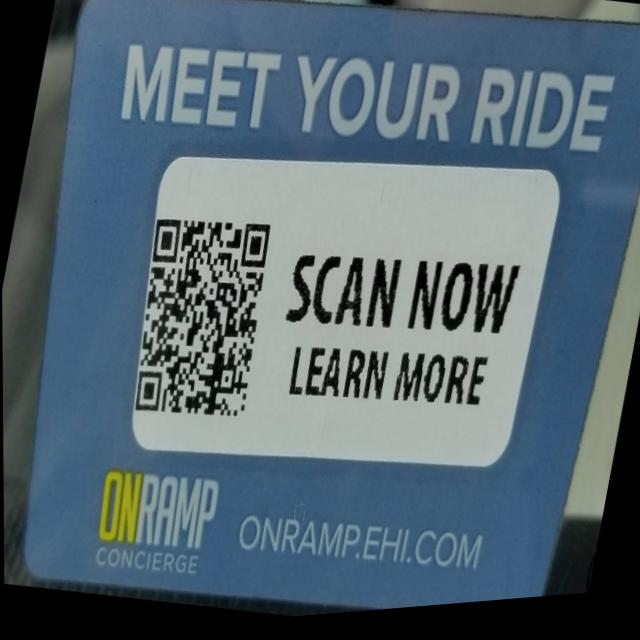QR_CODE: (109, 173, 295, 464)
